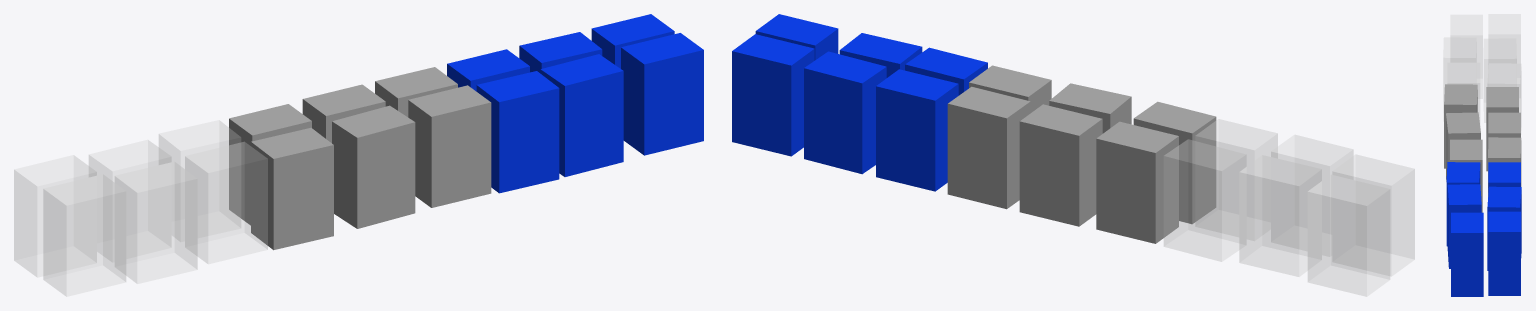
Rendered from Pasta_g87jtq_Pack02.fbx.
3 views of the same model, side by side, from view 1: azimuth 30°, elevation 25°; view 2: azimuth 150°, elevation 25°; view 3: azimuth 270°, elevation 25° (orthographic). The views are drawn at different scales.
Parts seen in each view (by area): view 1: Pasta_g87jtq_Pack02; view 2: Pasta_g87jtq_Pack02; view 3: Pasta_g87jtq_Pack02.
Boxes of the visible parts, x1,y1,x2,y2 form: Pasta_g87jtq_Pack02: (14,14,703,296); Pasta_g87jtq_Pack02: (732,14,1414,296); Pasta_g87jtq_Pack02: (1443,14,1521,296).
Bounding box in the file's own units: 190 × 25.85 × 28.73.
